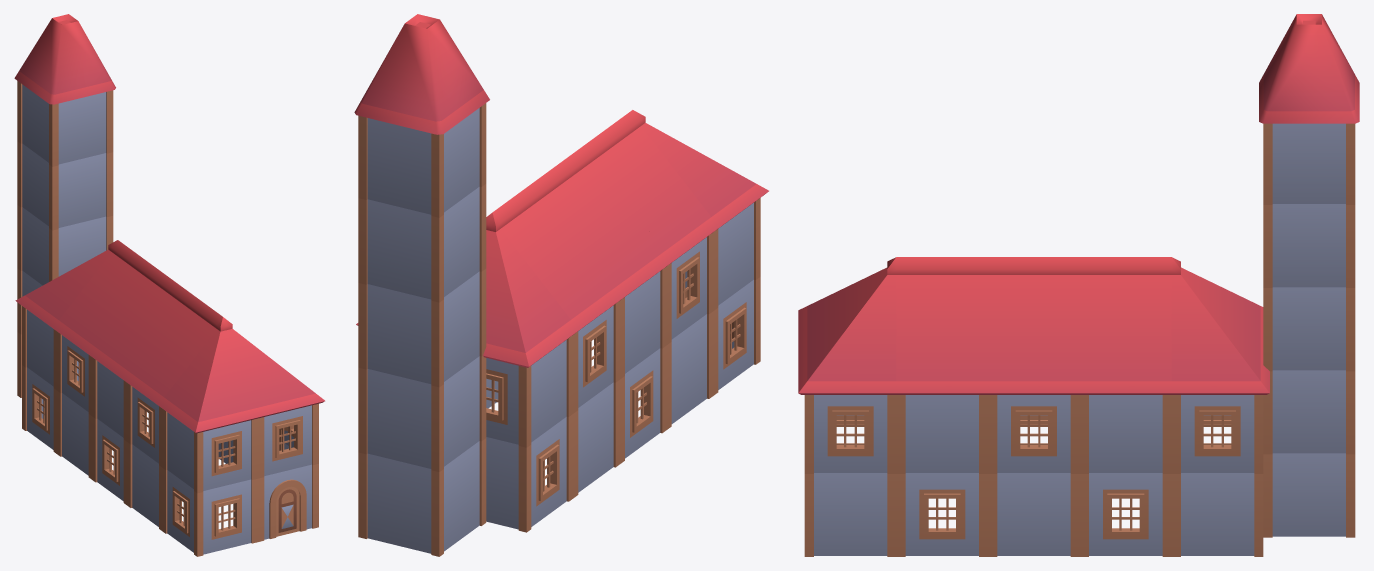
The model's file is church.glb.
3 renders of one model, left to right at view 1: azimuth 30°, elevation 25°; view 2: azimuth 150°, elevation 25°; view 3: azimuth 270°, elevation 25°, orthographic. The views are drawn at different scales.
Visible parts, largest first — view 1: church; view 2: church; view 3: church.
Boxes of the visible parts, box(x1,y1,x2,y2) form: church: box(14, 14, 324, 556); church: box(354, 14, 768, 556); church: box(798, 14, 1359, 556).
Size of the model in its own units: 6.42 by 18 by 18.36.
59 materials, 59 textured.
